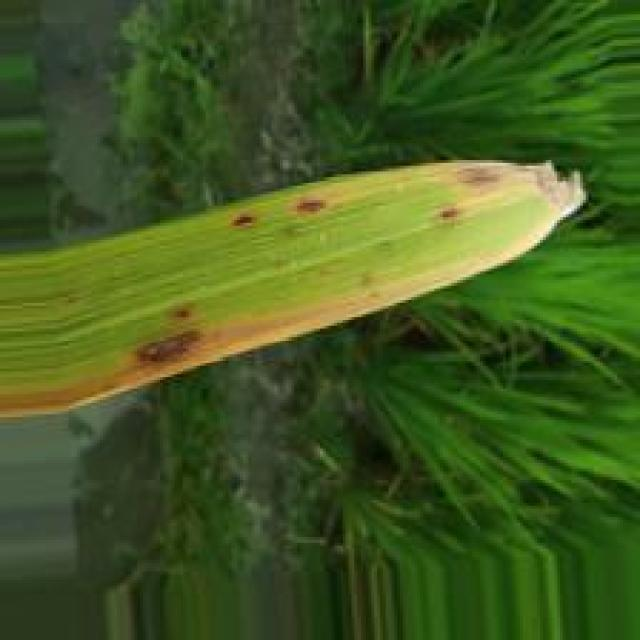Narrow_Brown_Leaf_Spot: (0, 296, 386, 421), (279, 160, 582, 227)
